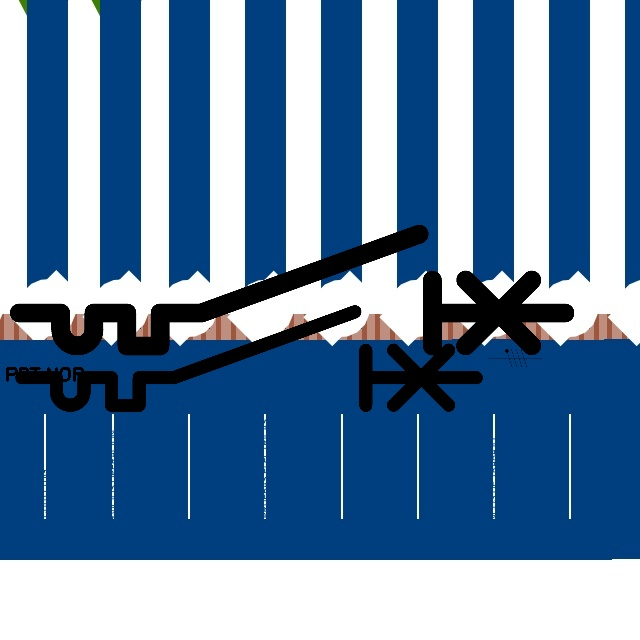interruptor_termomagnetico: (5, 220, 579, 360), (10, 300, 488, 417)
